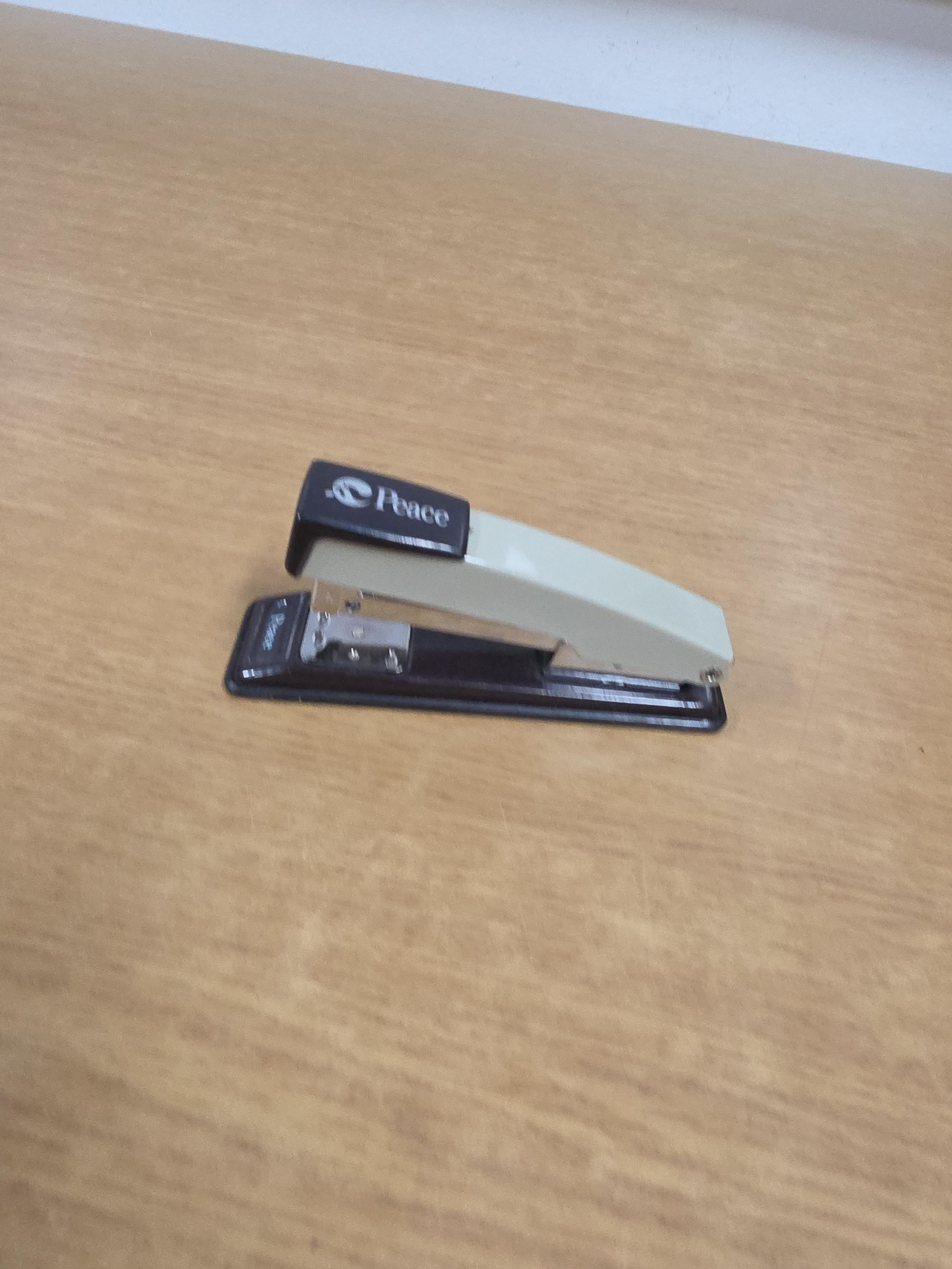stapler: (221, 458, 736, 734)
